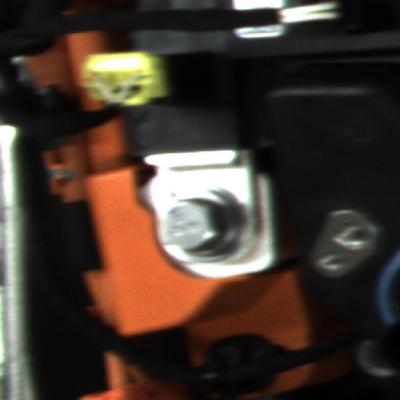nut_b: (160, 188, 239, 264)
